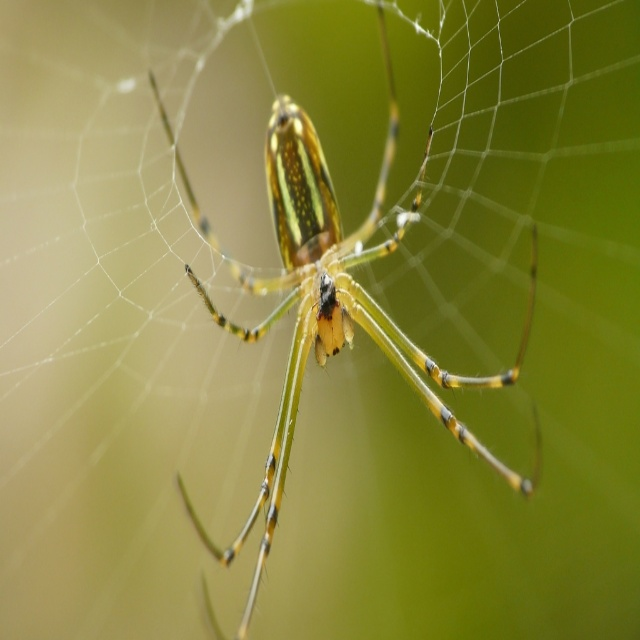Spider: (148, 5, 542, 640)
